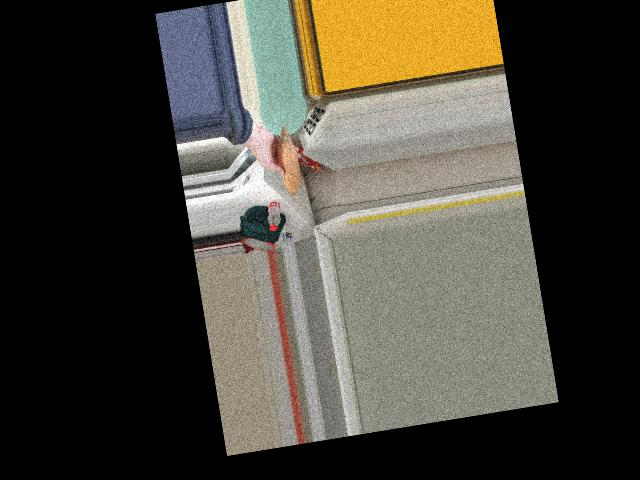sweet_potato: (275, 133, 299, 187)
